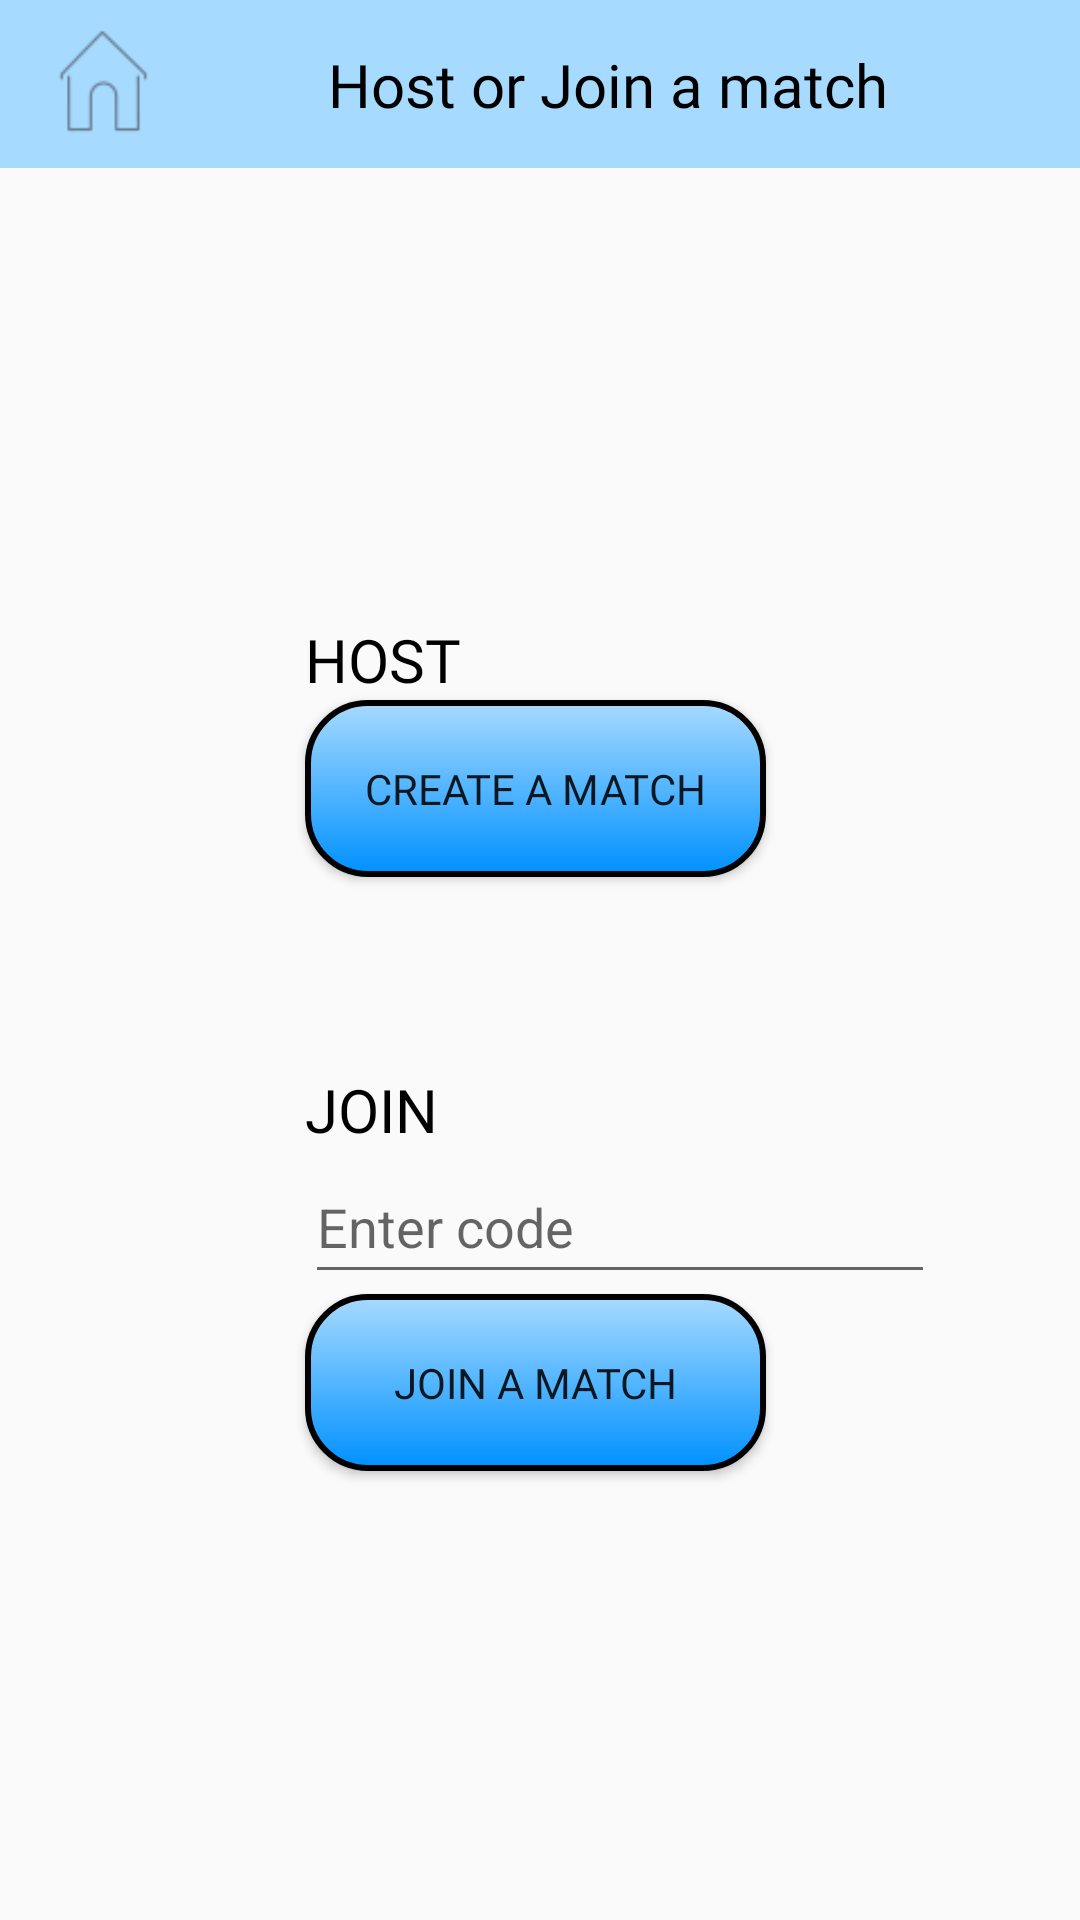

Named icons in this screenshot (1080×1920) and their bounding boxes, (x1, y1, x2, y2):
home: (60, 31, 147, 131)
